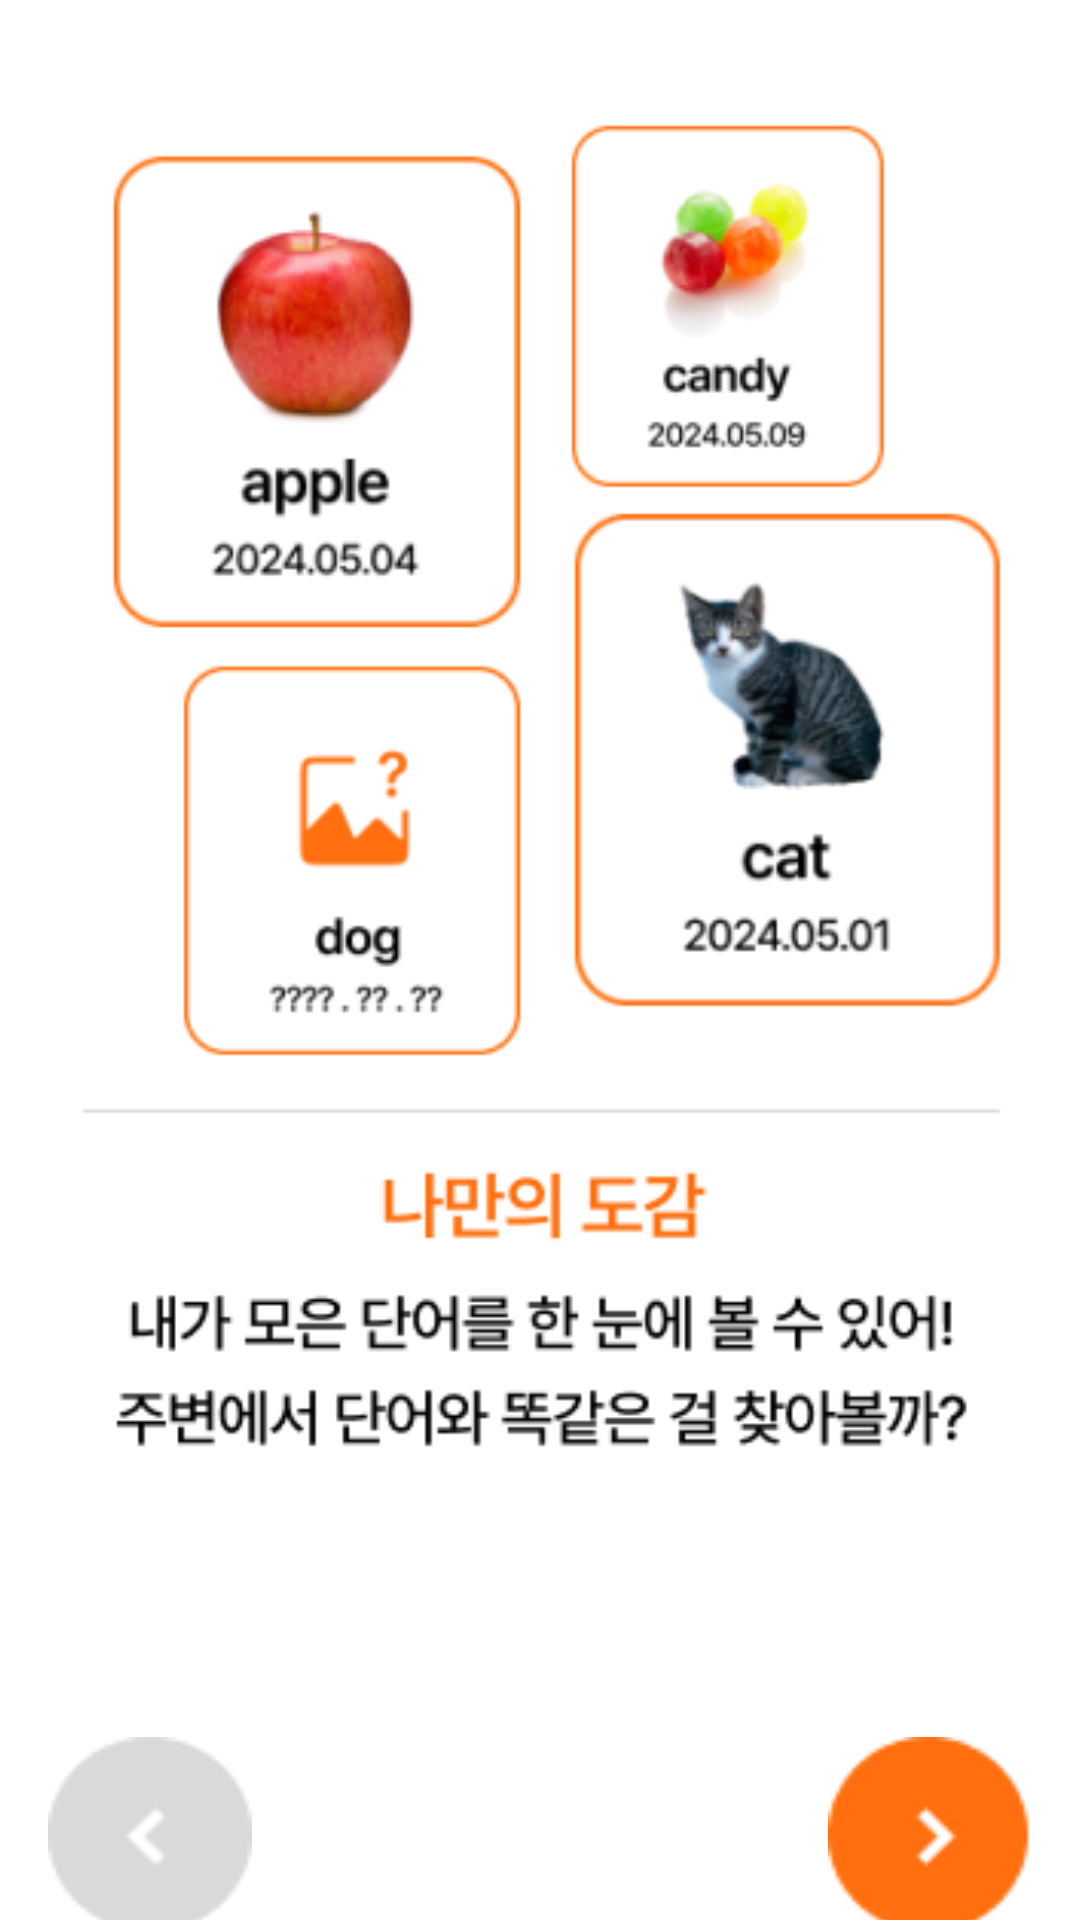

Locate icon controls on the screen. Image size 1080*1920, boxes as (x1, y1, x2, y2).
before1: (48, 1737, 252, 1920)
next2: (828, 1737, 1030, 1920)
